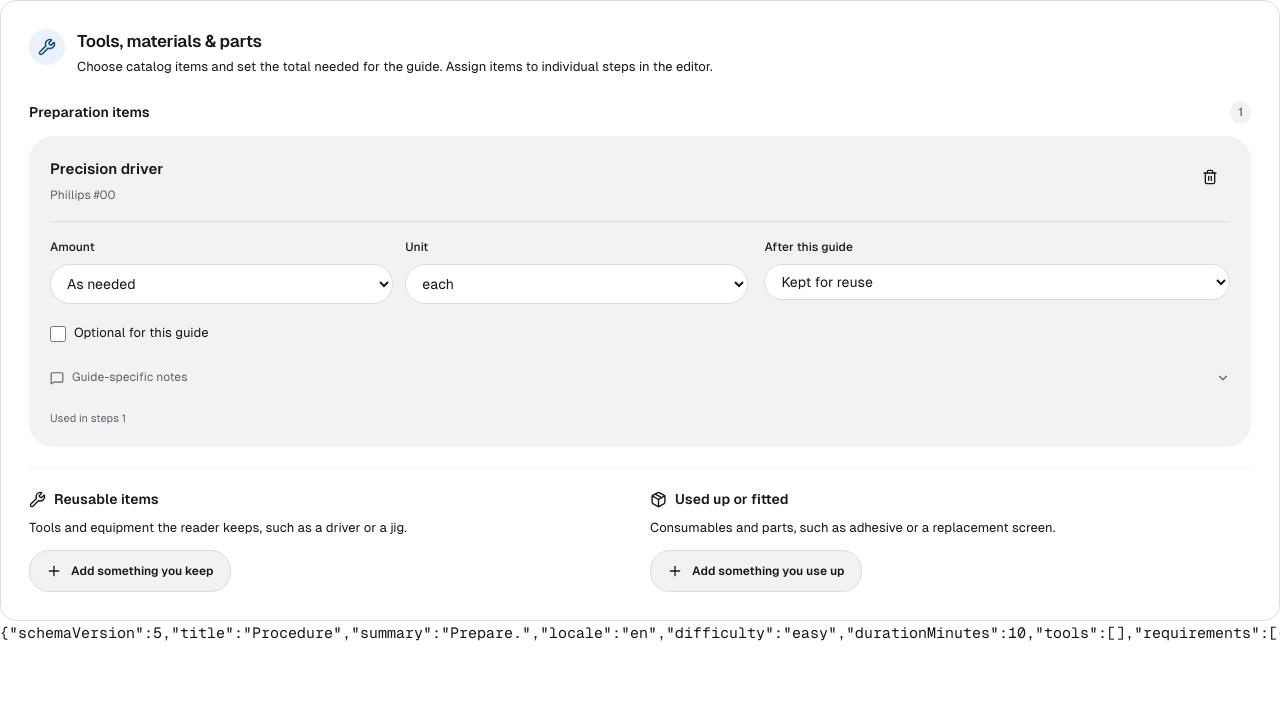
catalog-backed preparation authoring › confirms removing a preparation requirement and removes its dependent step usages together
Click the button named "Remove Precision driver from guide" at x=1210, y=177, box [1190,157,1230,197]
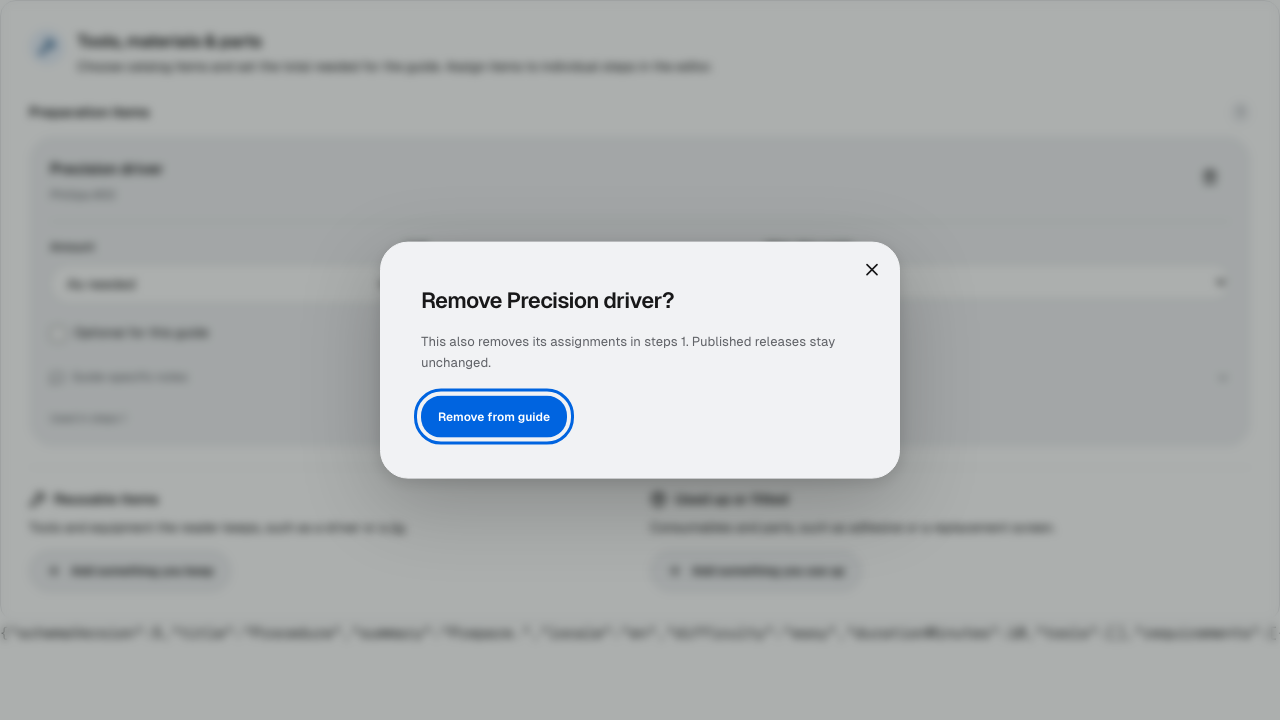
Result: the dialog shows "steps 1" at [421,334,835,370]
Click the button "Remove from guide" at x=494, y=416, box [421,395,567,437]
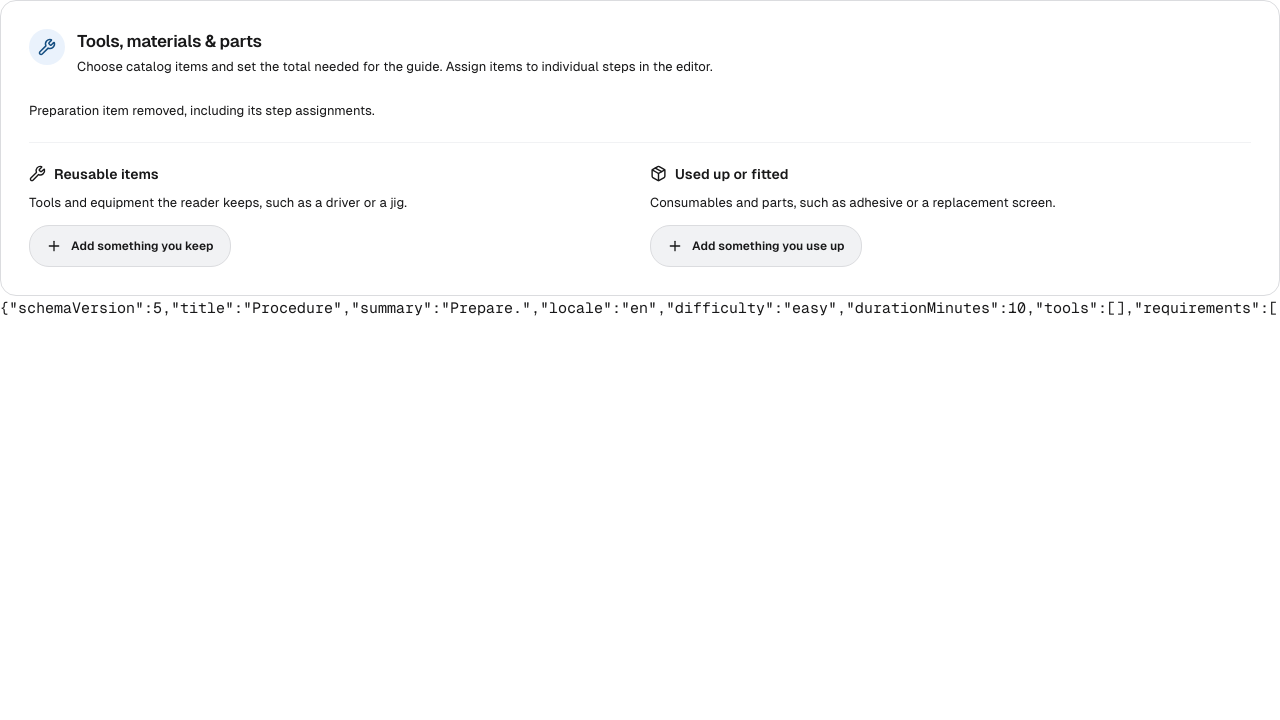
Result: the dialog is gone
